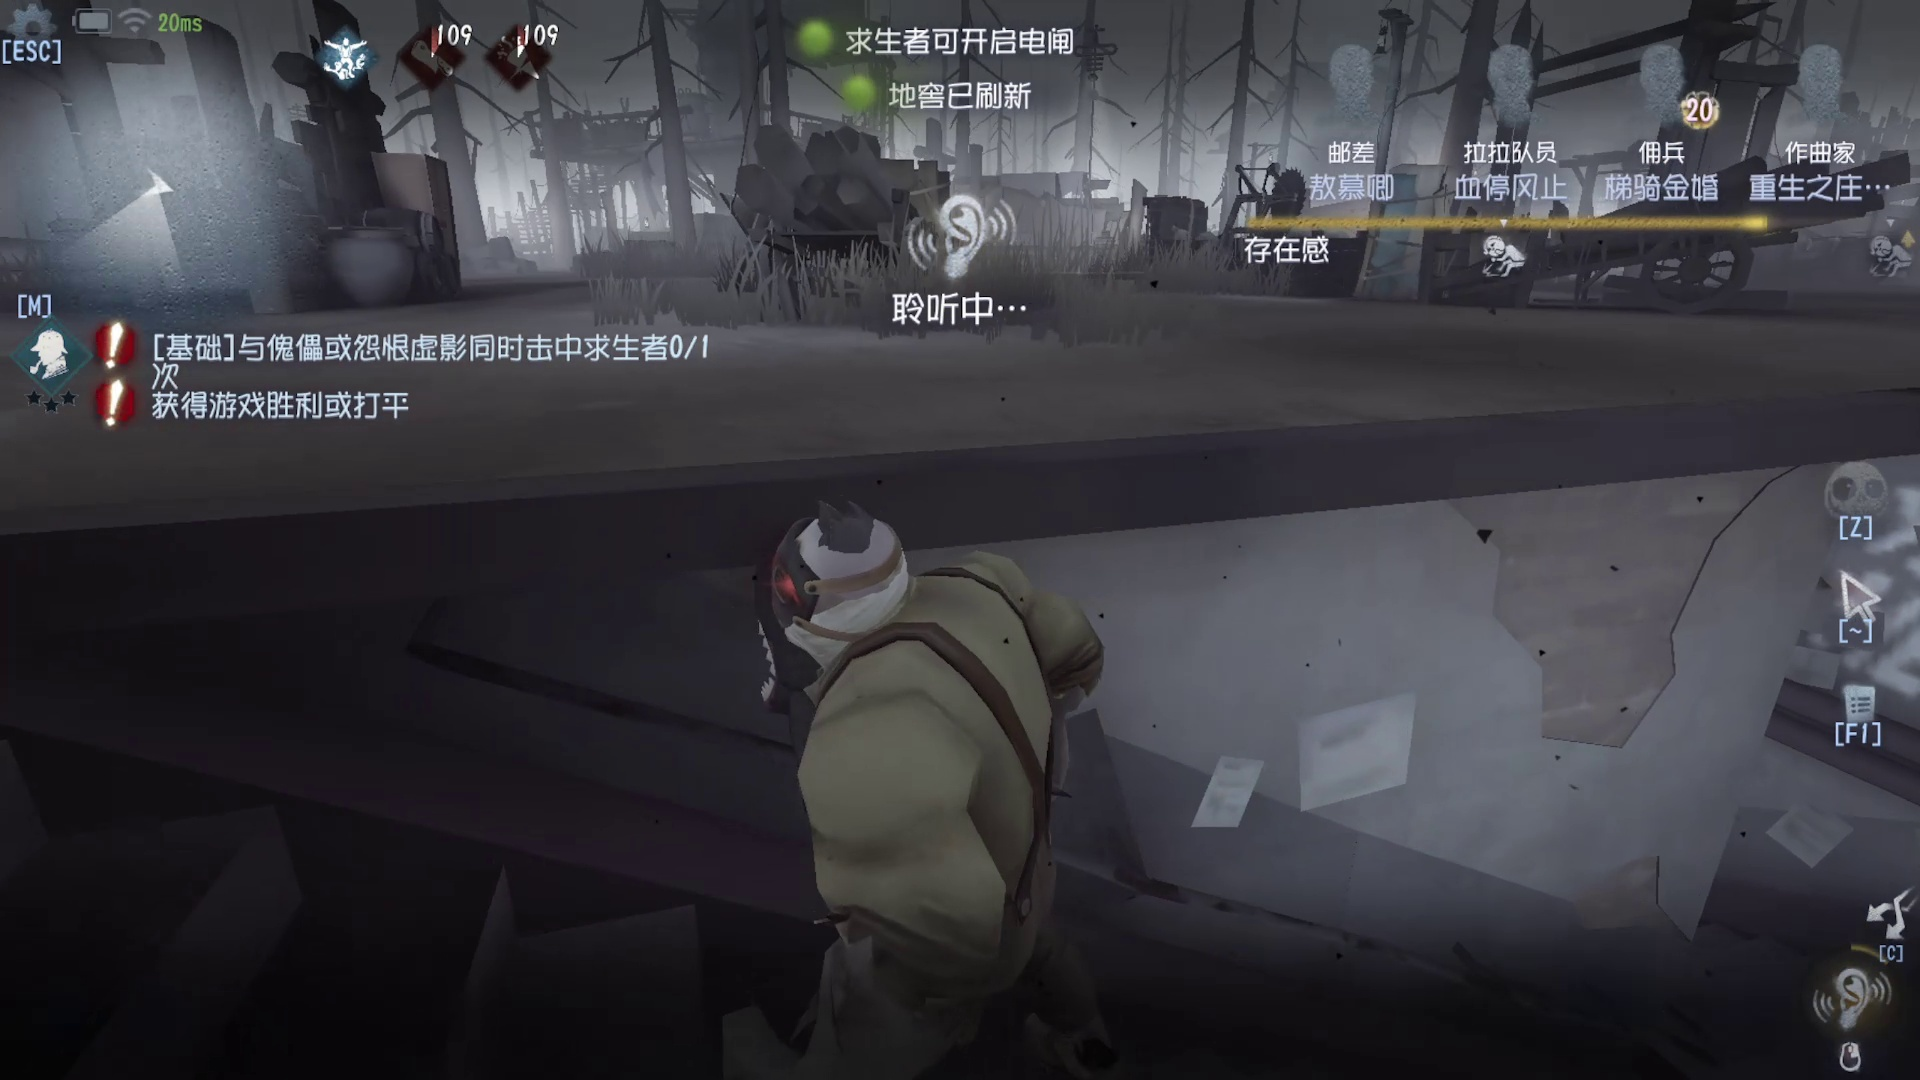木板: (1323, 131, 1486, 314)
设置: (1, 1, 74, 87)
